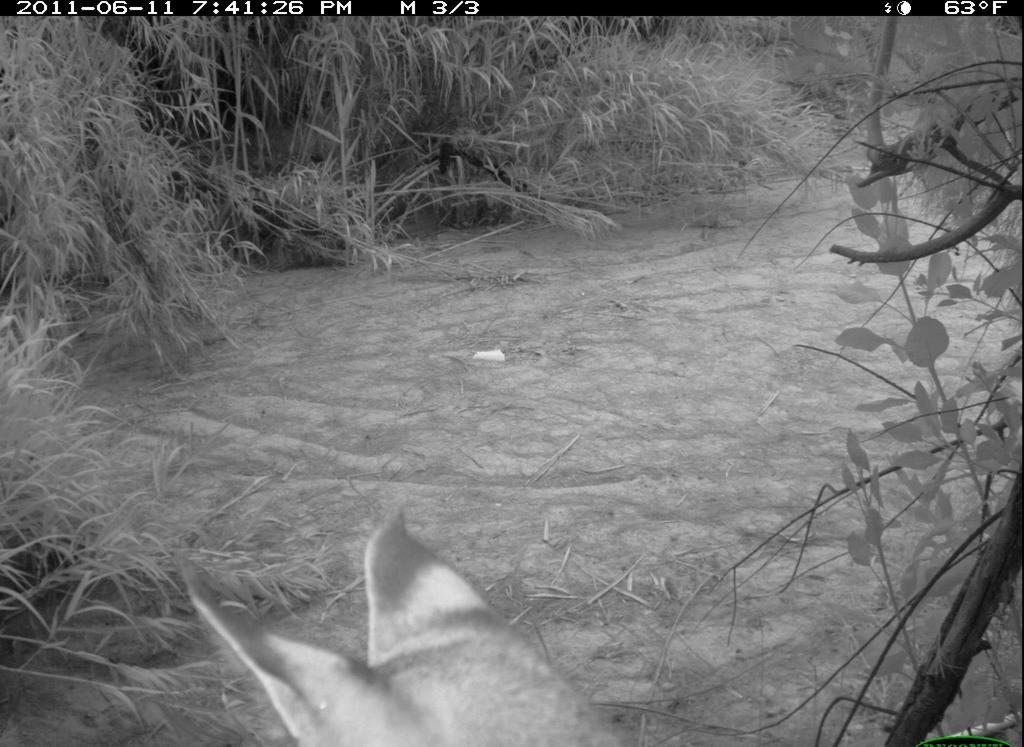bobcat: (166, 506, 655, 747)
